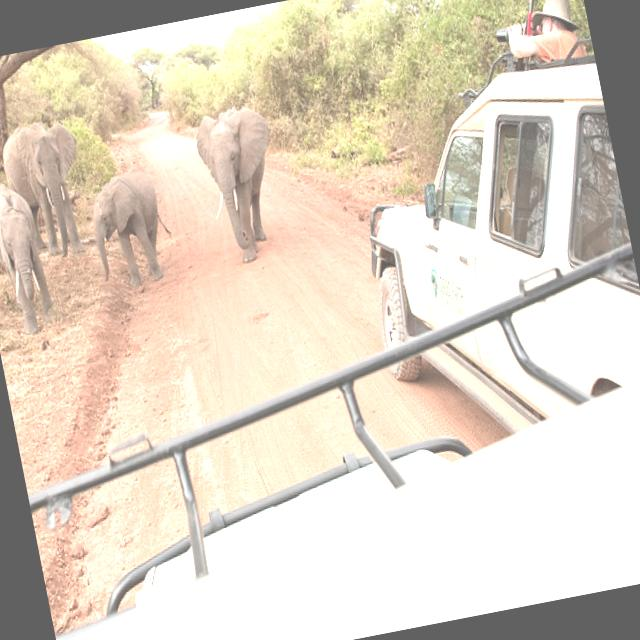Vehicle: (331, 36, 640, 452)
